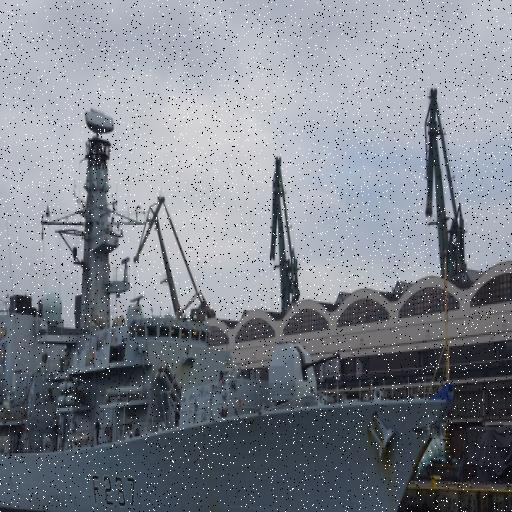Fragata: (1, 97, 456, 512)
